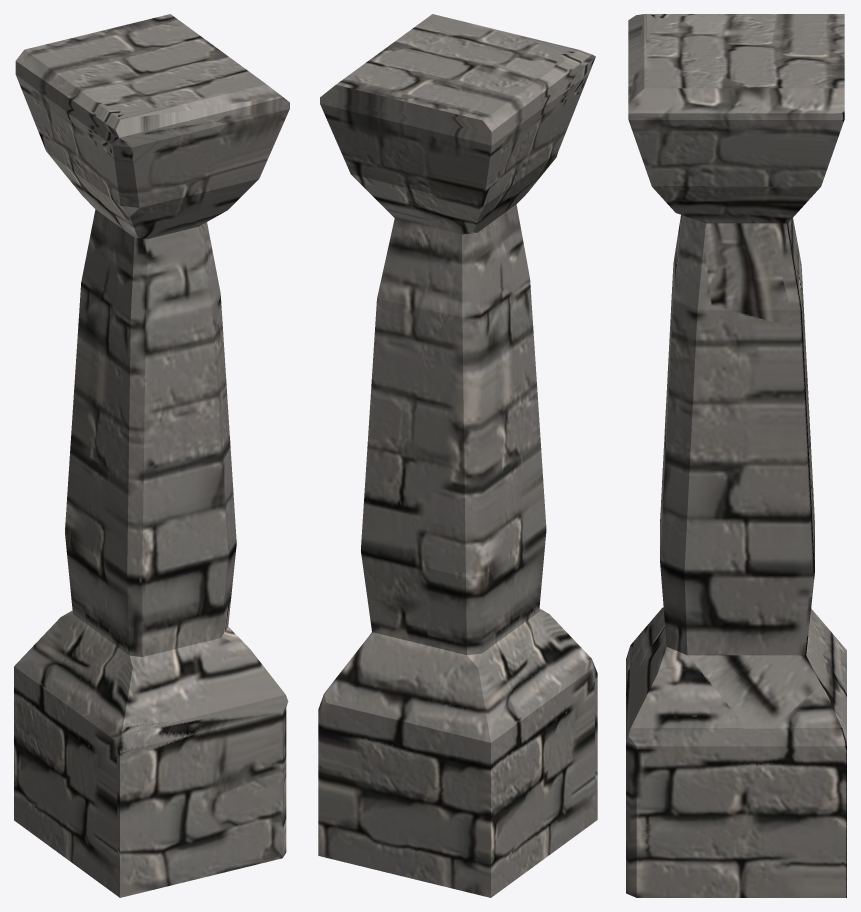
The model's file is colum.FBX.
The picture shows the model from 3 angles, left to right: view 1: azimuth 30°, elevation 25°; view 2: azimuth 150°, elevation 25°; view 3: azimuth 270°, elevation 25°; orthographic projection. The views are drawn at different scales.
Parts seen in each view (by area): view 1: Box01; view 2: Box01; view 3: Box01.
Part boxes in pixels (box(x1,y1,x2,y2)): Box01: box(14, 14, 289, 897); Box01: box(318, 14, 597, 897); Box01: box(626, 14, 846, 897).
Size of the model in its own units: 35.4 by 152 by 37.9.
Materials: 1 (1 with a texture image).
